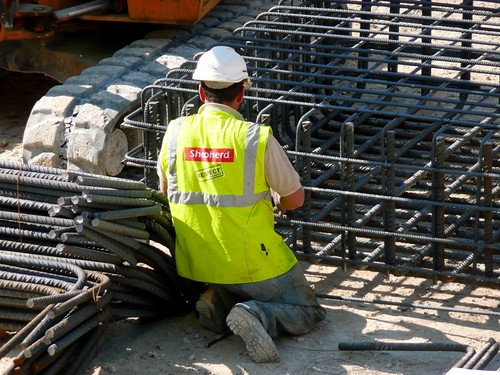person hardhat: (140, 47, 330, 358)
